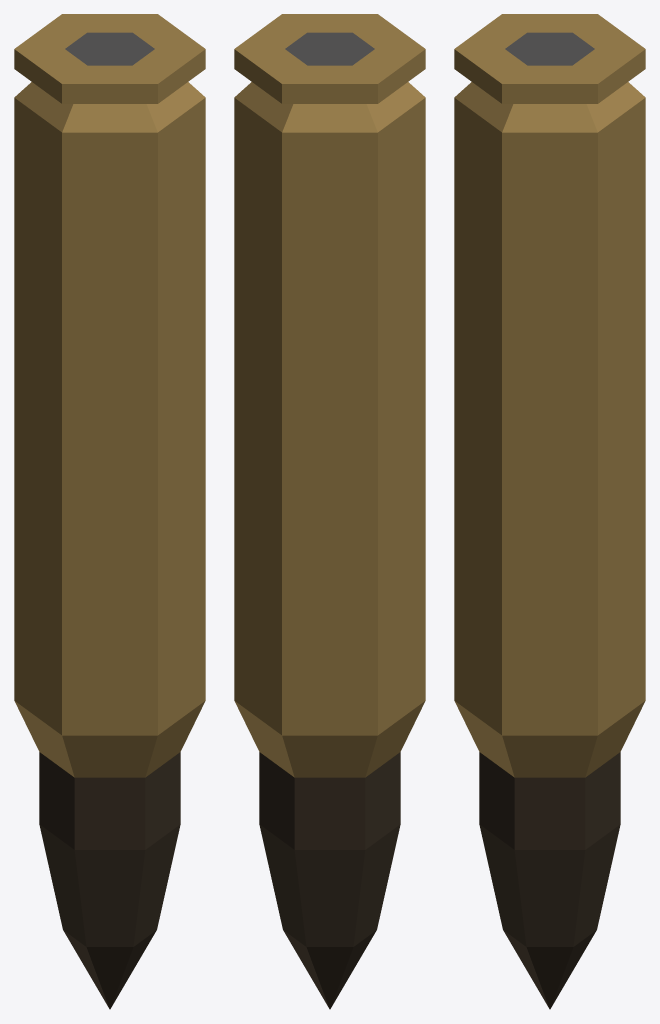
Rendered from SM_Item_Bullet_Large_01.fbx.
The picture shows the model from 3 angles, left to right: view 1: azimuth 30°, elevation 25°; view 2: azimuth 150°, elevation 25°; view 3: azimuth 270°, elevation 25°; orthographic projection.
Visible parts, largest first — view 1: SM_Item_Bullet_Large_01; view 2: SM_Item_Bullet_Large_01; view 3: SM_Item_Bullet_Large_01.
Part boxes in pixels (left/top/right/bottom): SM_Item_Bullet_Large_01: left=14, top=14, right=205, bottom=1009; SM_Item_Bullet_Large_01: left=234, top=14, right=425, bottom=1009; SM_Item_Bullet_Large_01: left=454, top=14, right=645, bottom=1009.
Bounding box in the file's own units: 1.76 × 11.27 × 2.03.
